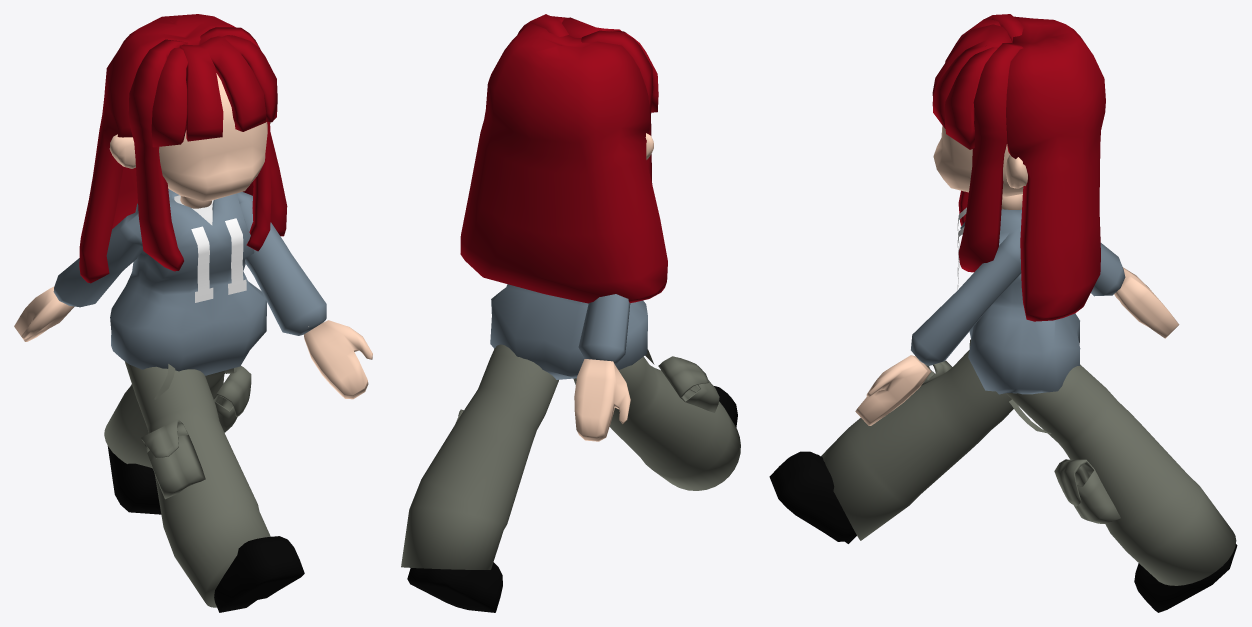
File: umi_walk_0.glb
The picture shows the model from 3 angles, left to right: view 1: azimuth 30°, elevation 25°; view 2: azimuth 150°, elevation 25°; view 3: azimuth 270°, elevation 25°; orthographic projection. The views are drawn at different scales.
Visible parts, largest first — view 1: sweater, pants, hair.003, hair.001, feet, head, hair, hand, bolsillo, hair.002, Plane, ear; view 2: hair.003, pants, sweater, feet, hand, bolsillo, hair.001, hair, hair.002; view 3: pants, hair.003, sweater, hair.001, feet, hand, bolsillo, hair.002, hair, head.
Boxes of the visible parts, x1,y1,x2,y2 form: sweater: (53,189,326,375); pants: (104,361,270,607); hair.003: (79,14,287,283); hair.001: (128,27,271,271); feet: (107,446,304,612); head: (159,73,267,201); hair: (179,36,266,141); hand: (14,286,372,399); bolsillo: (141,366,251,499); hair.002: (151,35,277,147); Plane: (191,218,246,302); ear: (109,122,270,168); hair.003: (460,23,667,303); pants: (401,344,740,569); sweater: (490,284,647,379); feet: (407,386,737,612); hand: (574,359,630,441); bolsillo: (455,356,719,423); hair.001: (517,14,653,183); hair: (562,17,621,37); hair.002: (551,16,658,112); pants: (821,350,1236,585); hair.003: (1006,16,1105,321); sweater: (911,209,1125,394); hair.001: (958,14,1023,272); feet: (769,451,1237,612); hand: (855,267,1179,425); bolsillo: (921,360,1120,523); hair.002: (944,19,1000,149); hair: (932,24,1012,128); head: (933,125,1023,196).
Size of the model in its own units: 2.06 by 4.78 by 3.64.
